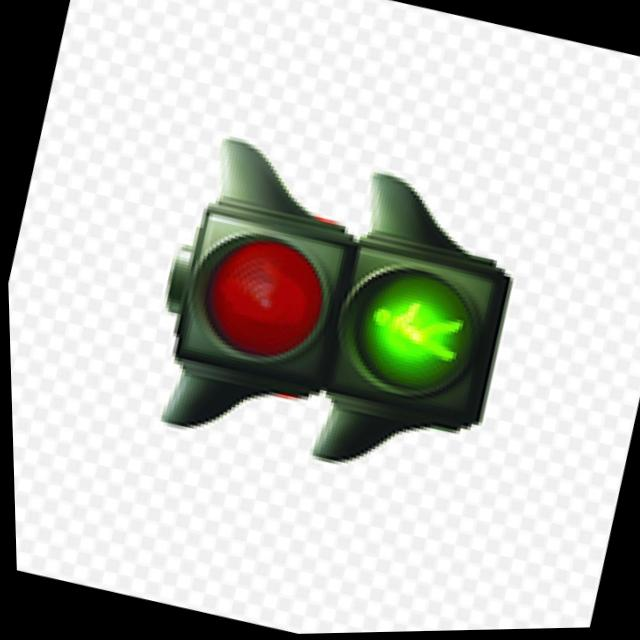green_light: (320, 203, 507, 423)
red_light: (159, 170, 380, 404)
